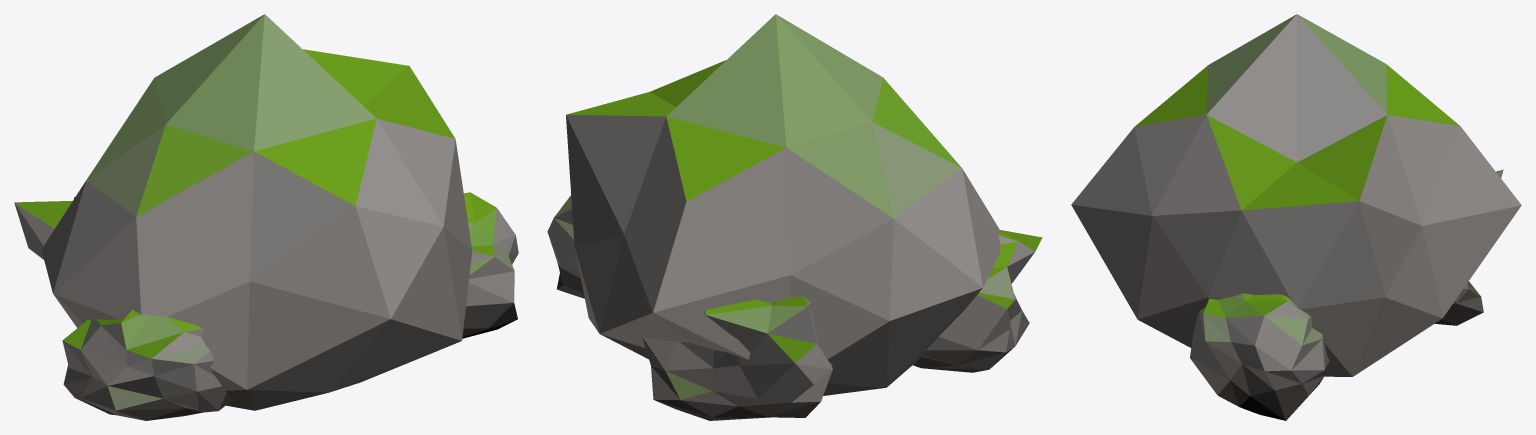
The model's file is batu_boulder_limestone_946184.glb.
3 views of the same model, side by side, from view 1: azimuth 30°, elevation 25°; view 2: azimuth 150°, elevation 25°; view 3: azimuth 270°, elevation 25° (orthographic). The views are drawn at different scales.
Parts seen in each view (by area): view 1: Batu_Jeram_Sungai; view 2: Batu_Jeram_Sungai; view 3: Batu_Jeram_Sungai.
Part boxes in pixels (x1=…): Batu_Jeram_Sungai: x1=14, y1=14, x2=518, y2=420; Batu_Jeram_Sungai: x1=547, y1=14, x2=1042, y2=420; Batu_Jeram_Sungai: x1=1071, y1=14, x2=1521, y2=420.
Bounding box in the file's own units: 6.62 × 5.1 × 6.32.
